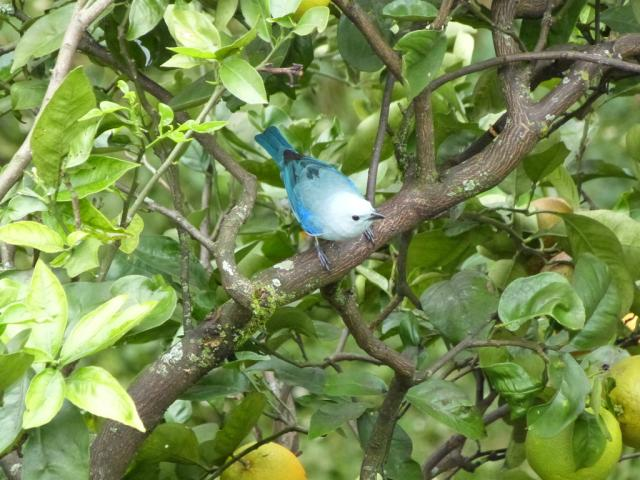Bird: (254, 123, 387, 274)
